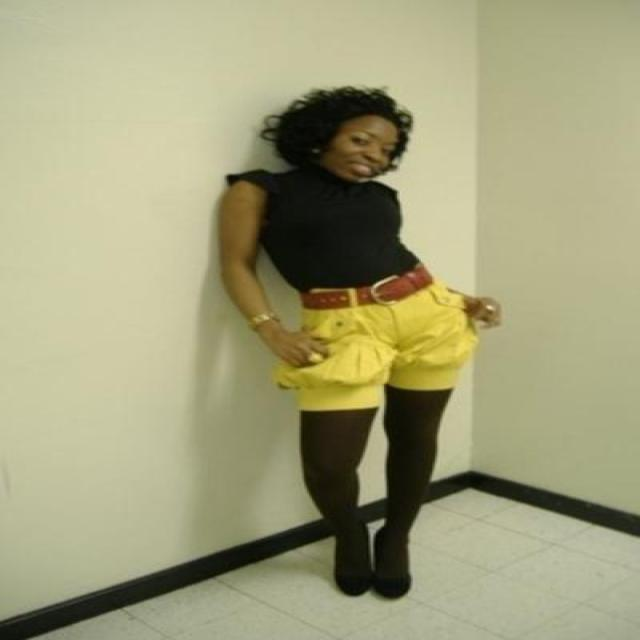shirt: (250, 166, 422, 292)
shoe: (334, 563, 410, 600)
shorts: (272, 278, 472, 430)
